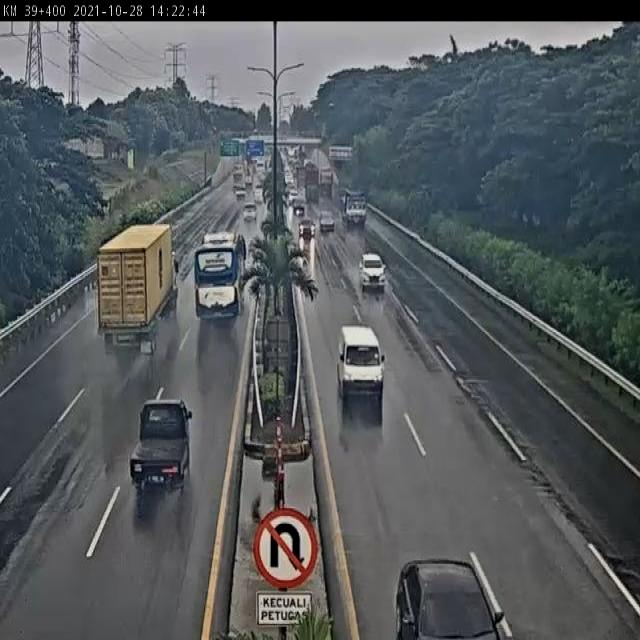Bus: (195, 230, 248, 324)
Car: (393, 560, 507, 640), (360, 254, 386, 293), (298, 215, 315, 237), (318, 210, 334, 232), (242, 202, 257, 222), (291, 197, 305, 213)
Truck: (96, 224, 178, 357), (130, 398, 192, 498), (341, 187, 366, 225), (319, 166, 334, 193), (304, 169, 319, 196), (233, 171, 246, 192)
Van: (335, 324, 387, 403)
